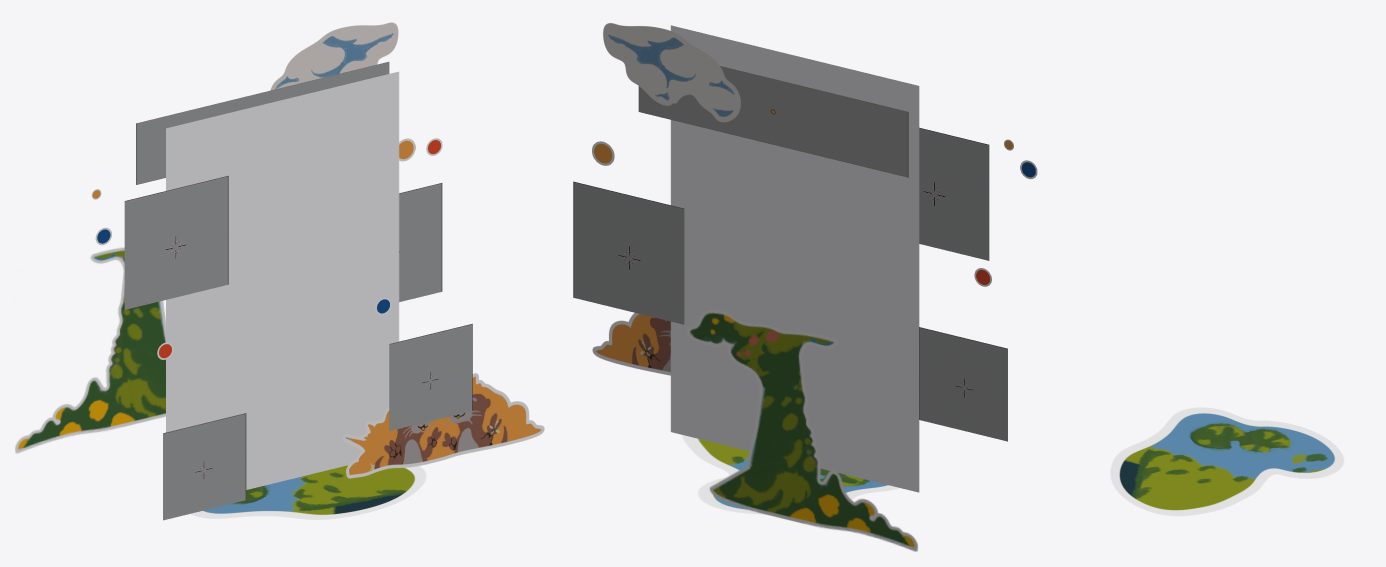
Rendered from animationtemplate.glb.
3 renders of one model, left to right at view 1: azimuth 30°, elevation 25°; view 2: azimuth 150°, elevation 25°; view 3: azimuth 270°, elevation 25°, orthographic. The views are drawn at different scales.
Visible parts, largest first — view 1: Plane, trait1, obj1, obj2, Floor, trait3, trait4, trait2, Banner, obj3; view 2: Plane, obj1, Banner, trait2, trait4, trait1, obj3, obj2, Floor; view 3: Floor.
Part boxes in pixels (x1,y1,x2,y2): Plane: [166, 71, 399, 489]; trait1: [124, 175, 228, 309]; obj1: [15, 247, 165, 453]; obj2: [342, 373, 544, 478]; Floor: [190, 465, 426, 519]; trait3: [389, 323, 472, 430]; trait4: [163, 413, 246, 520]; trait2: [399, 183, 442, 301]; Banner: [136, 62, 389, 184]; obj3: [270, 22, 398, 90]; Plane: [670, 25, 919, 492]; obj1: [686, 309, 917, 551]; Banner: [638, 66, 908, 177]; trait2: [573, 181, 684, 324]; trait4: [919, 327, 1007, 441]; trait1: [919, 127, 989, 260]; obj3: [603, 23, 740, 122]; obj2: [592, 313, 670, 375]; Floor: [681, 435, 900, 514]; Floor: [1110, 407, 1344, 516].
Size of the model in its own units: 1.25 by 1.12 by 0.758.
Materials: 13 (13 with a texture image).
